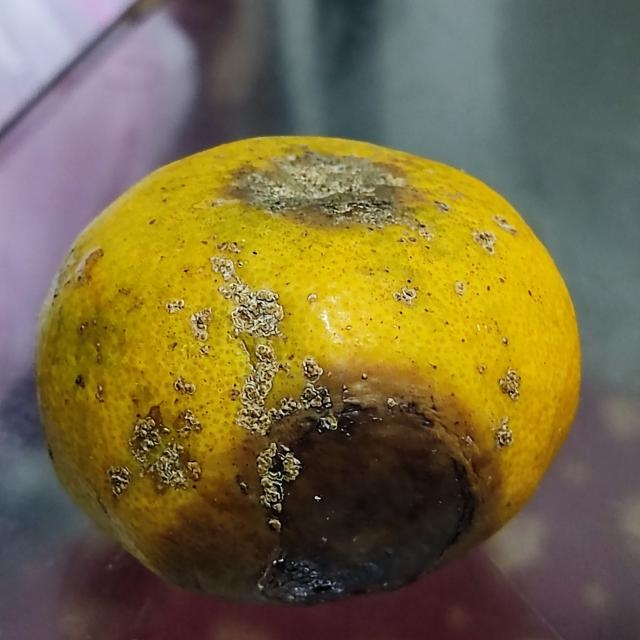agrume: (28, 131, 583, 605)
